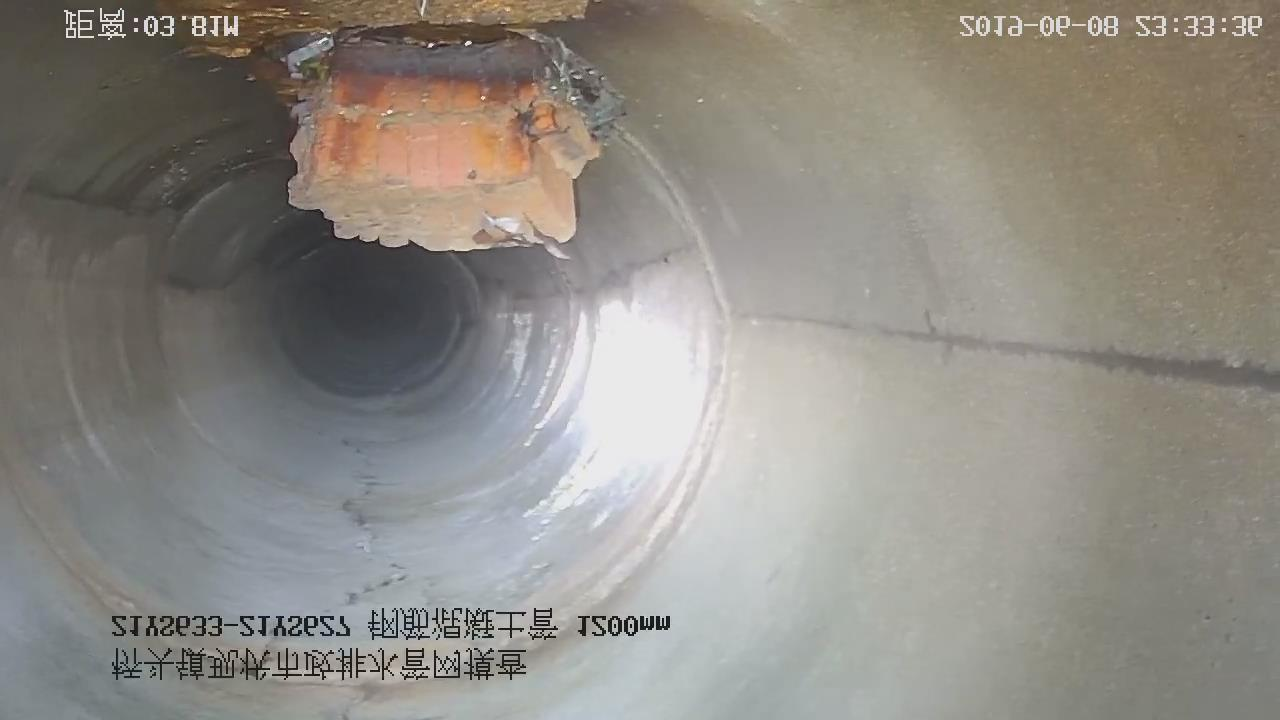ZAW: (286, 32, 614, 259)
